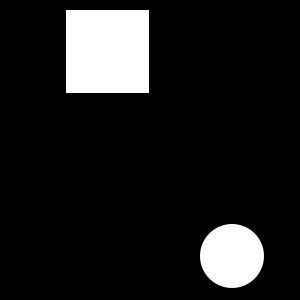circle: (66, 10, 149, 93)
rectangle: (200, 224, 264, 288)
